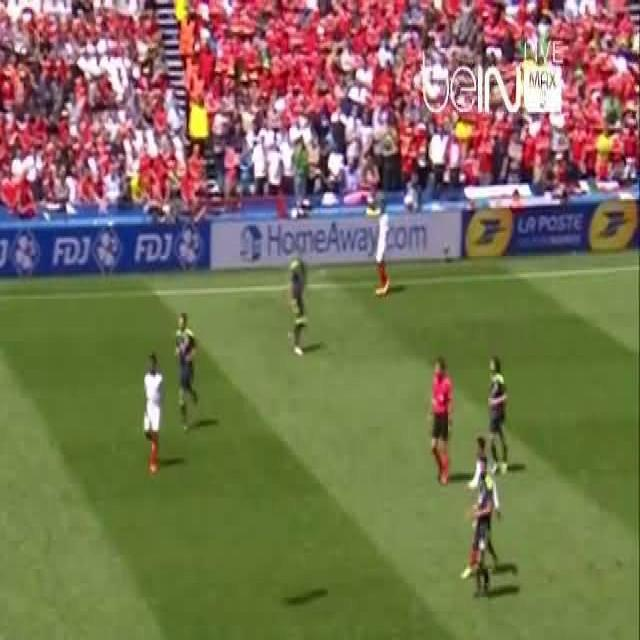player-white: (468, 438, 501, 572), (467, 457, 493, 599), (428, 359, 452, 488), (175, 314, 200, 434), (286, 247, 310, 355), (486, 356, 508, 472), (143, 354, 163, 476), (374, 196, 391, 296)
